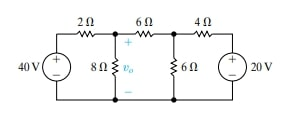dc: (39, 51, 78, 85), (214, 50, 251, 85)
resistor: (130, 28, 160, 39), (110, 56, 123, 81), (167, 55, 180, 79), (74, 28, 98, 40), (192, 28, 218, 39)
